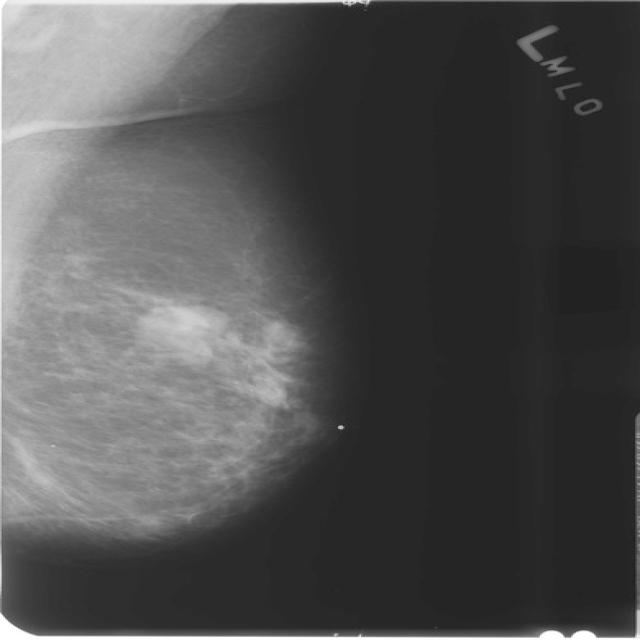tumour: (136, 305, 215, 364)
